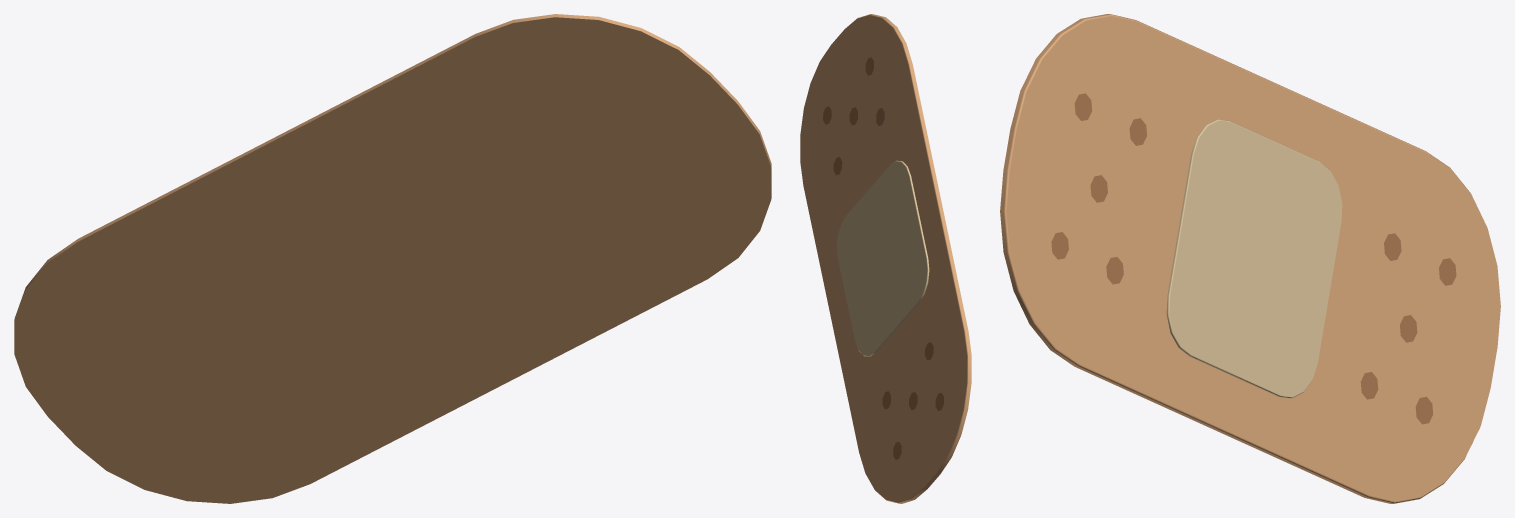
Rendered from Cosmetic_Face_Band_Aid.glb.
The picture shows the model from 3 angles, left to right: view 1: azimuth 30°, elevation 25°; view 2: azimuth 150°, elevation 25°; view 3: azimuth 270°, elevation 25°; orthographic projection. The views are drawn at different scales.
Parts seen in each view (by area): view 1: Face_Band_Aid; view 2: Face_Band_Aid; view 3: Face_Band_Aid.
Boxes of the visible parts, bbox=[...] form: Face_Band_Aid: bbox=[14, 14, 771, 503]; Face_Band_Aid: bbox=[800, 14, 971, 503]; Face_Band_Aid: bbox=[1000, 14, 1500, 503].
Size of the model in its own units: 0.1437 by 0.1566 by 0.1295.
